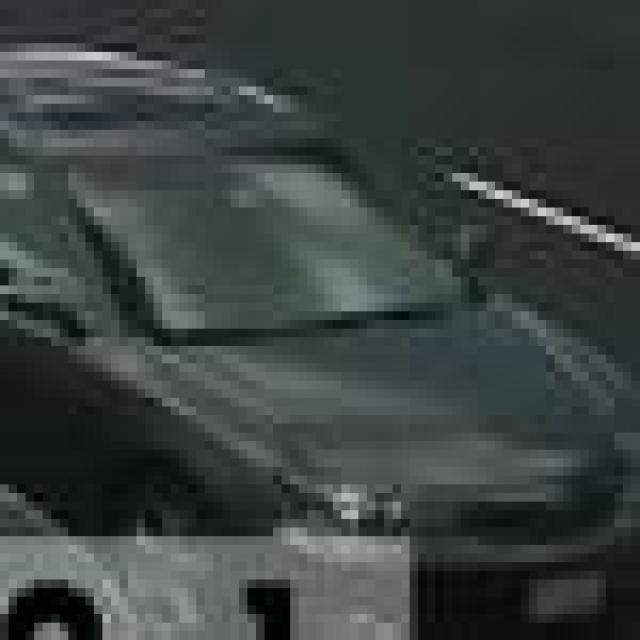Car: (0, 44, 506, 554)
